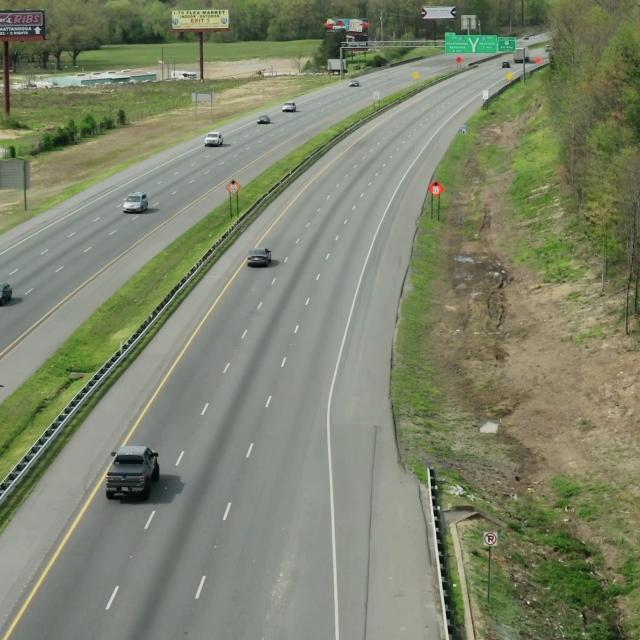Car: (104, 440, 164, 502), (122, 184, 152, 216), (245, 243, 276, 270)
